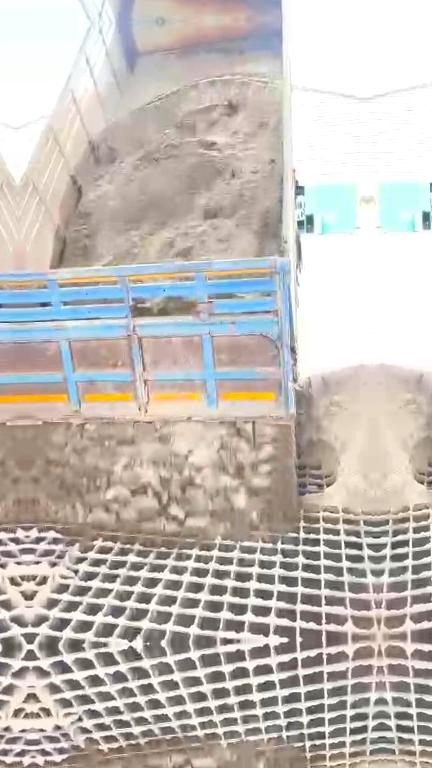sand: (62, 77, 283, 265), (25, 422, 297, 537), (298, 365, 375, 511)
